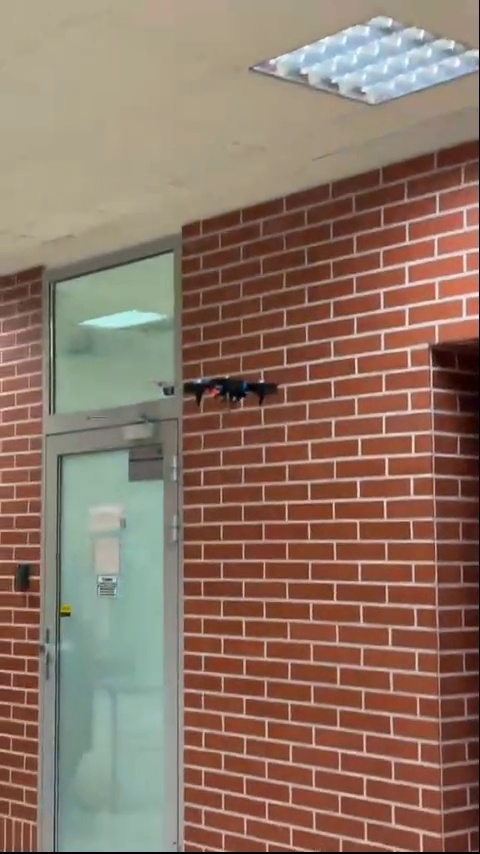drone: (187, 371, 279, 404)
